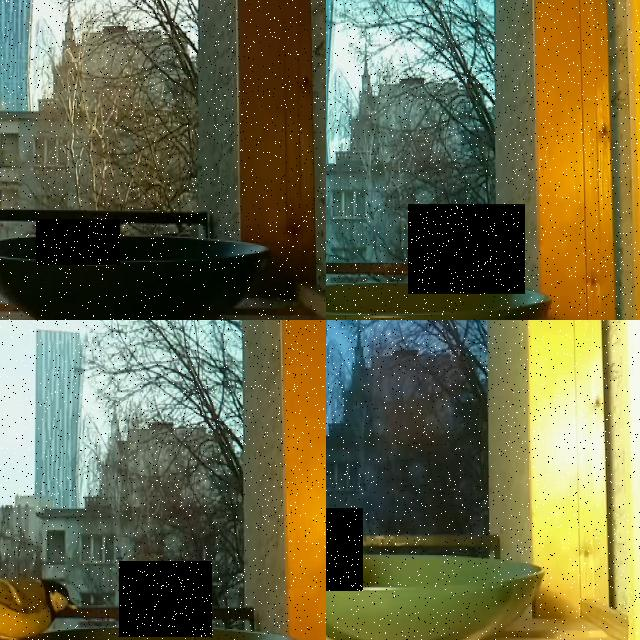Bogatka: (0, 569, 76, 640), (326, 508, 363, 590)
Modraszka: (408, 204, 525, 294), (36, 219, 120, 265)
Wrobel: (119, 561, 212, 637)
